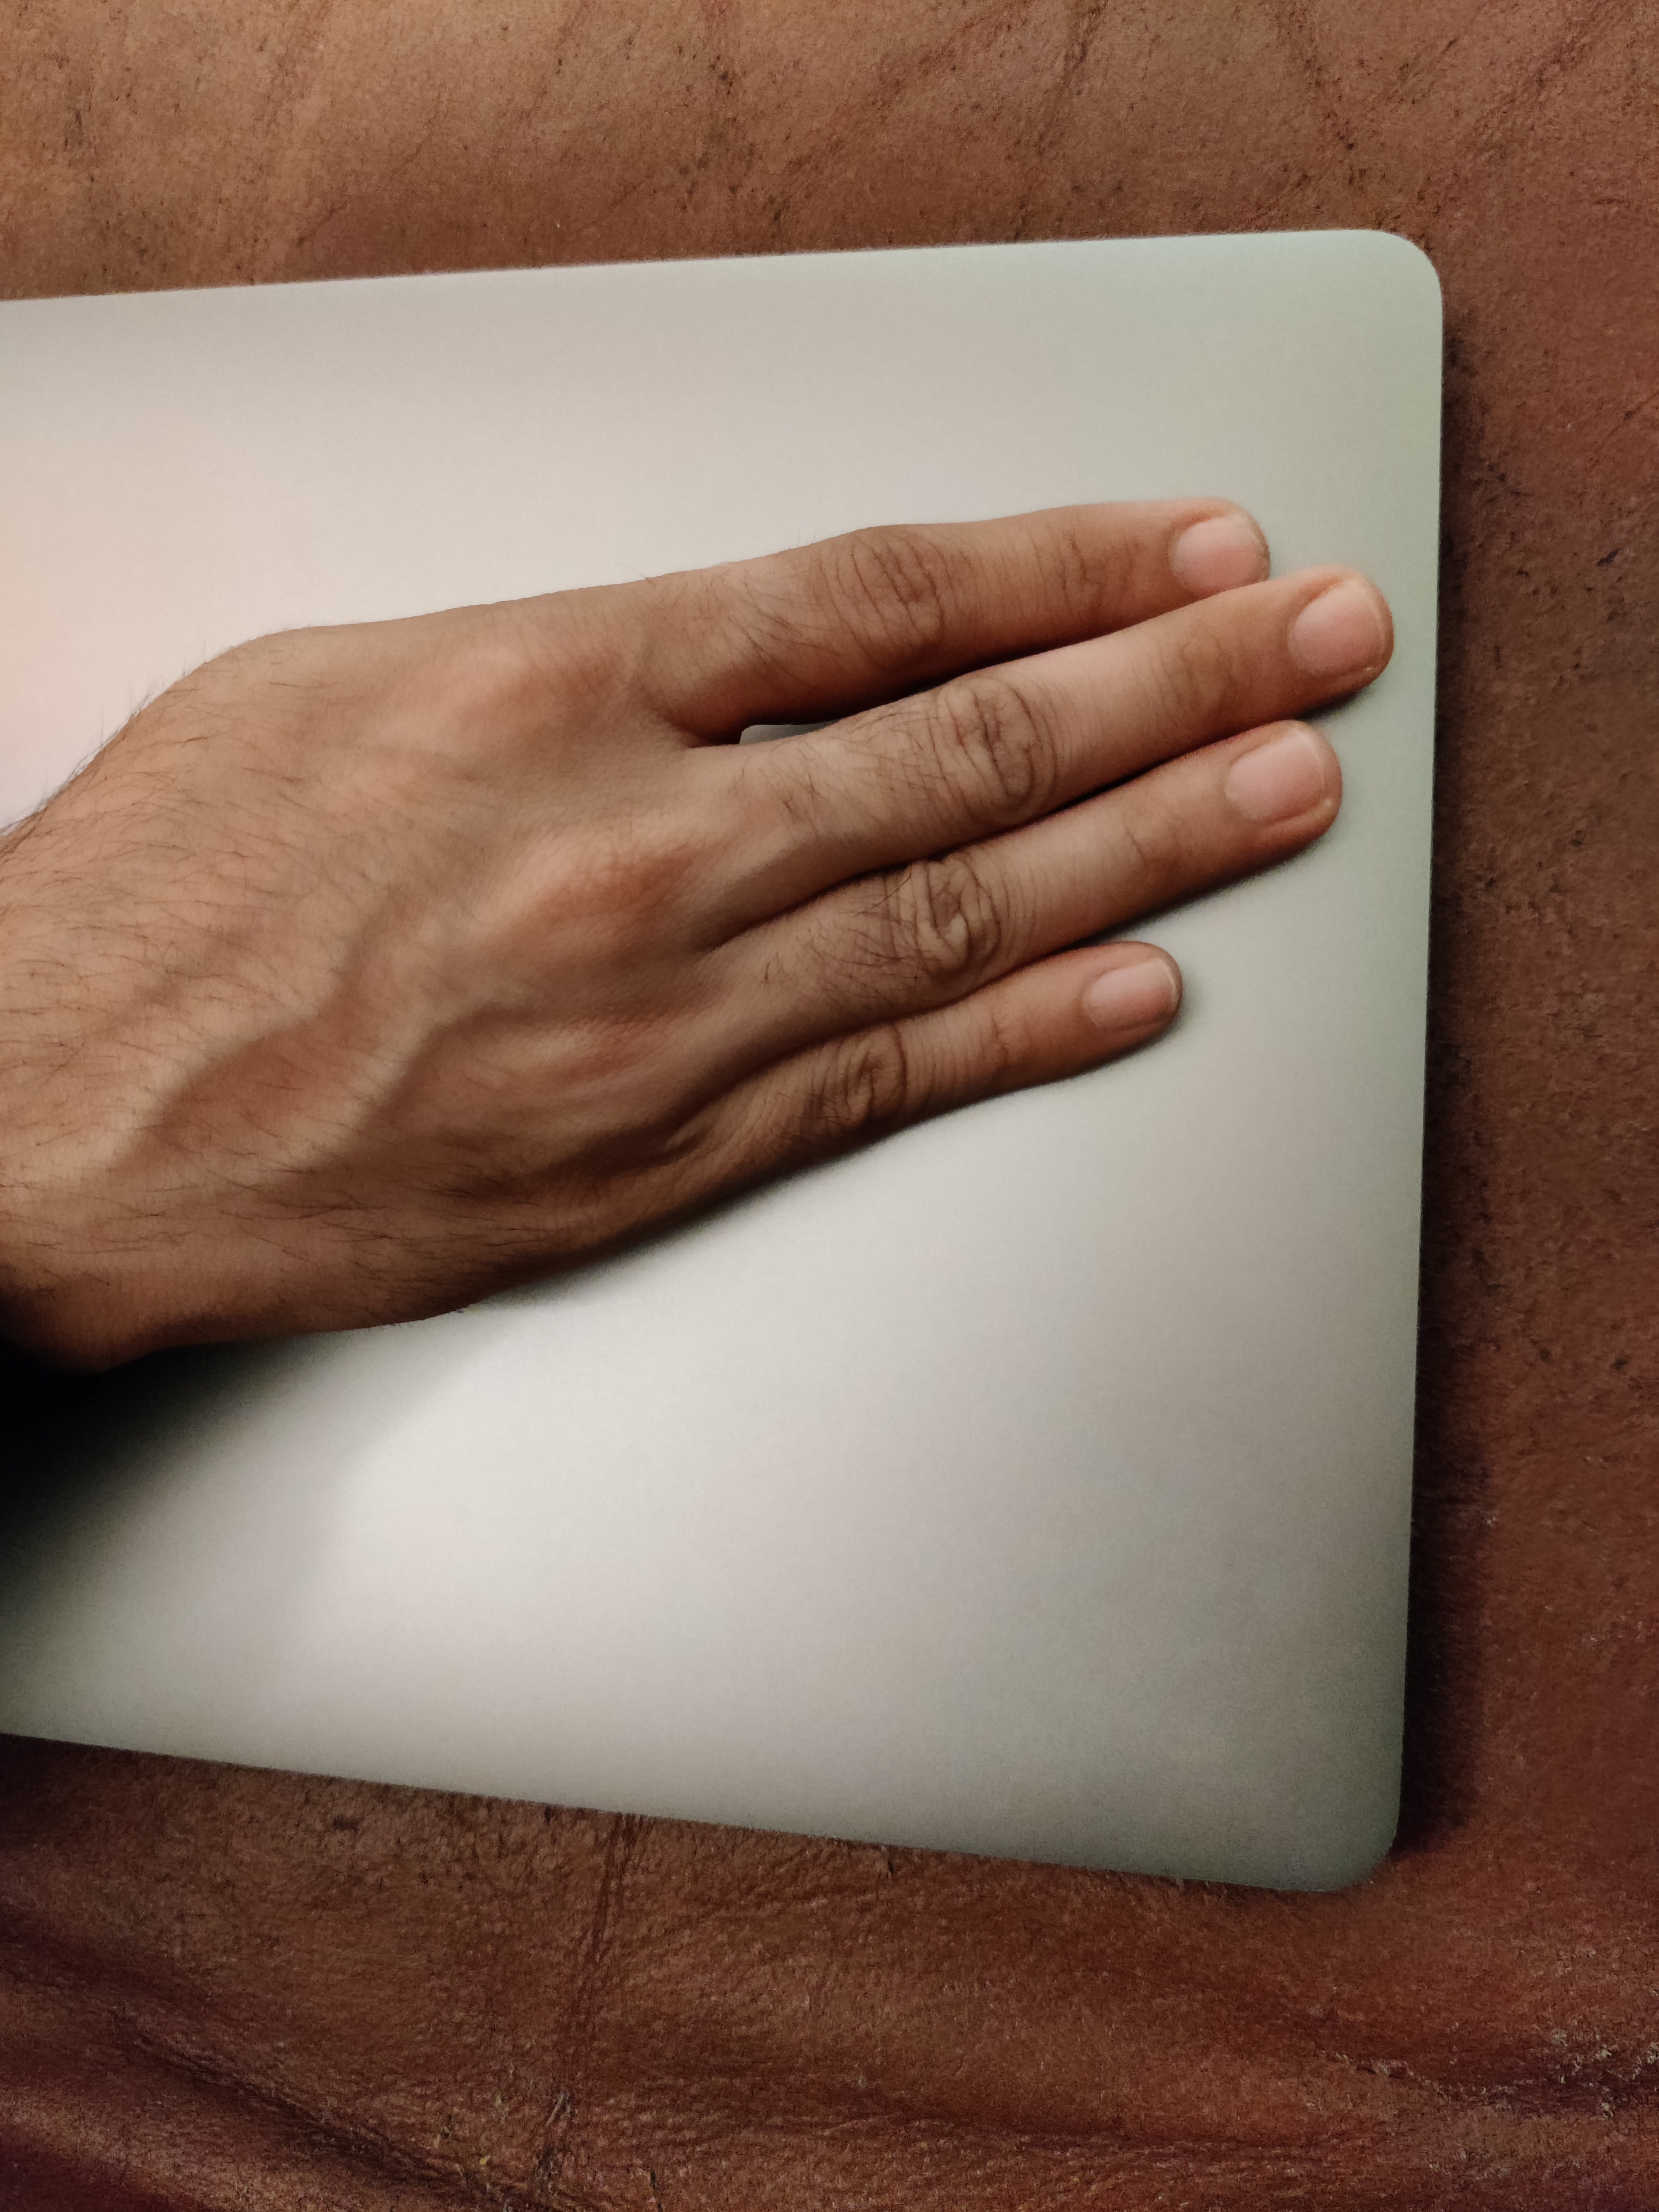left: (3, 219, 1560, 1632)
